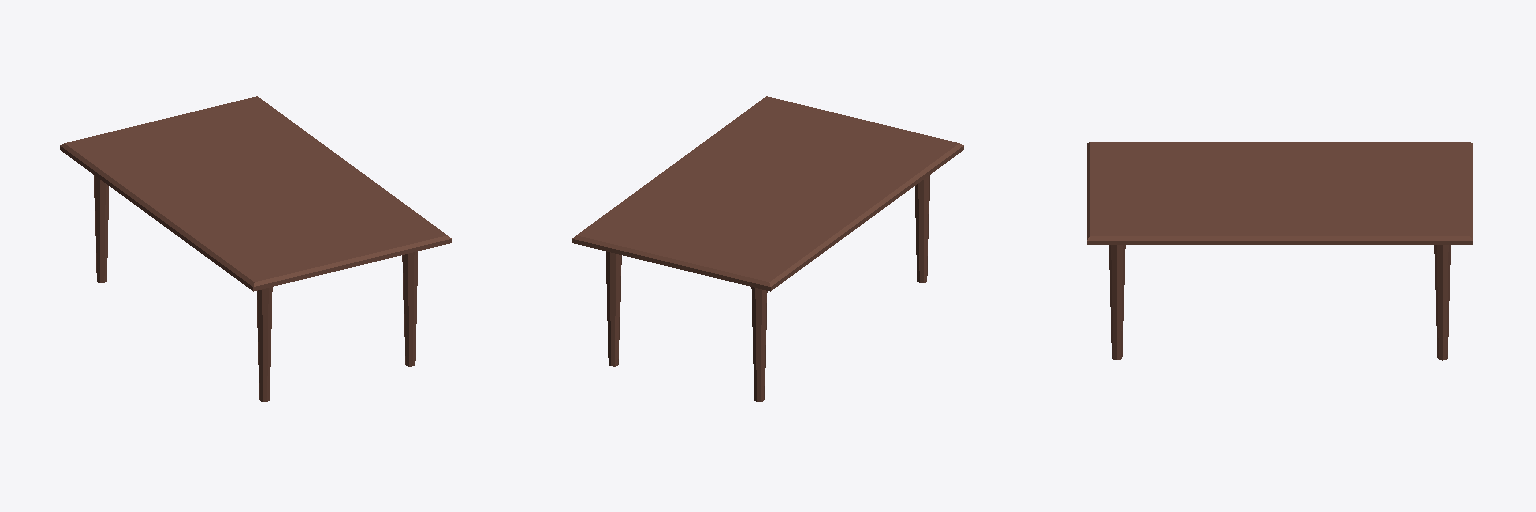
The model's file is Table_Large_Rectangular_01.obj.
3 views of the same model, side by side, from view 1: azimuth 30°, elevation 25°; view 2: azimuth 150°, elevation 25°; view 3: azimuth 270°, elevation 25° (orthographic).
Visible parts, largest first — view 1: Table_Large_Rectangular_01_Circle.004; view 2: Table_Large_Rectangular_01_Circle.004; view 3: Table_Large_Rectangular_01_Circle.004.
Boxes of the visible parts, box(x1,y1,x2,y2) form: Table_Large_Rectangular_01_Circle.004: box(60, 96, 451, 401); Table_Large_Rectangular_01_Circle.004: box(572, 96, 963, 401); Table_Large_Rectangular_01_Circle.004: box(1087, 142, 1472, 360).
Size of the model in its own units: 11.74 by 7.54 by 19.8.